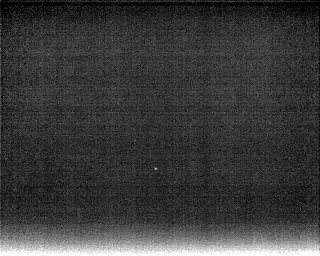BIRD: (152, 164, 160, 174)
